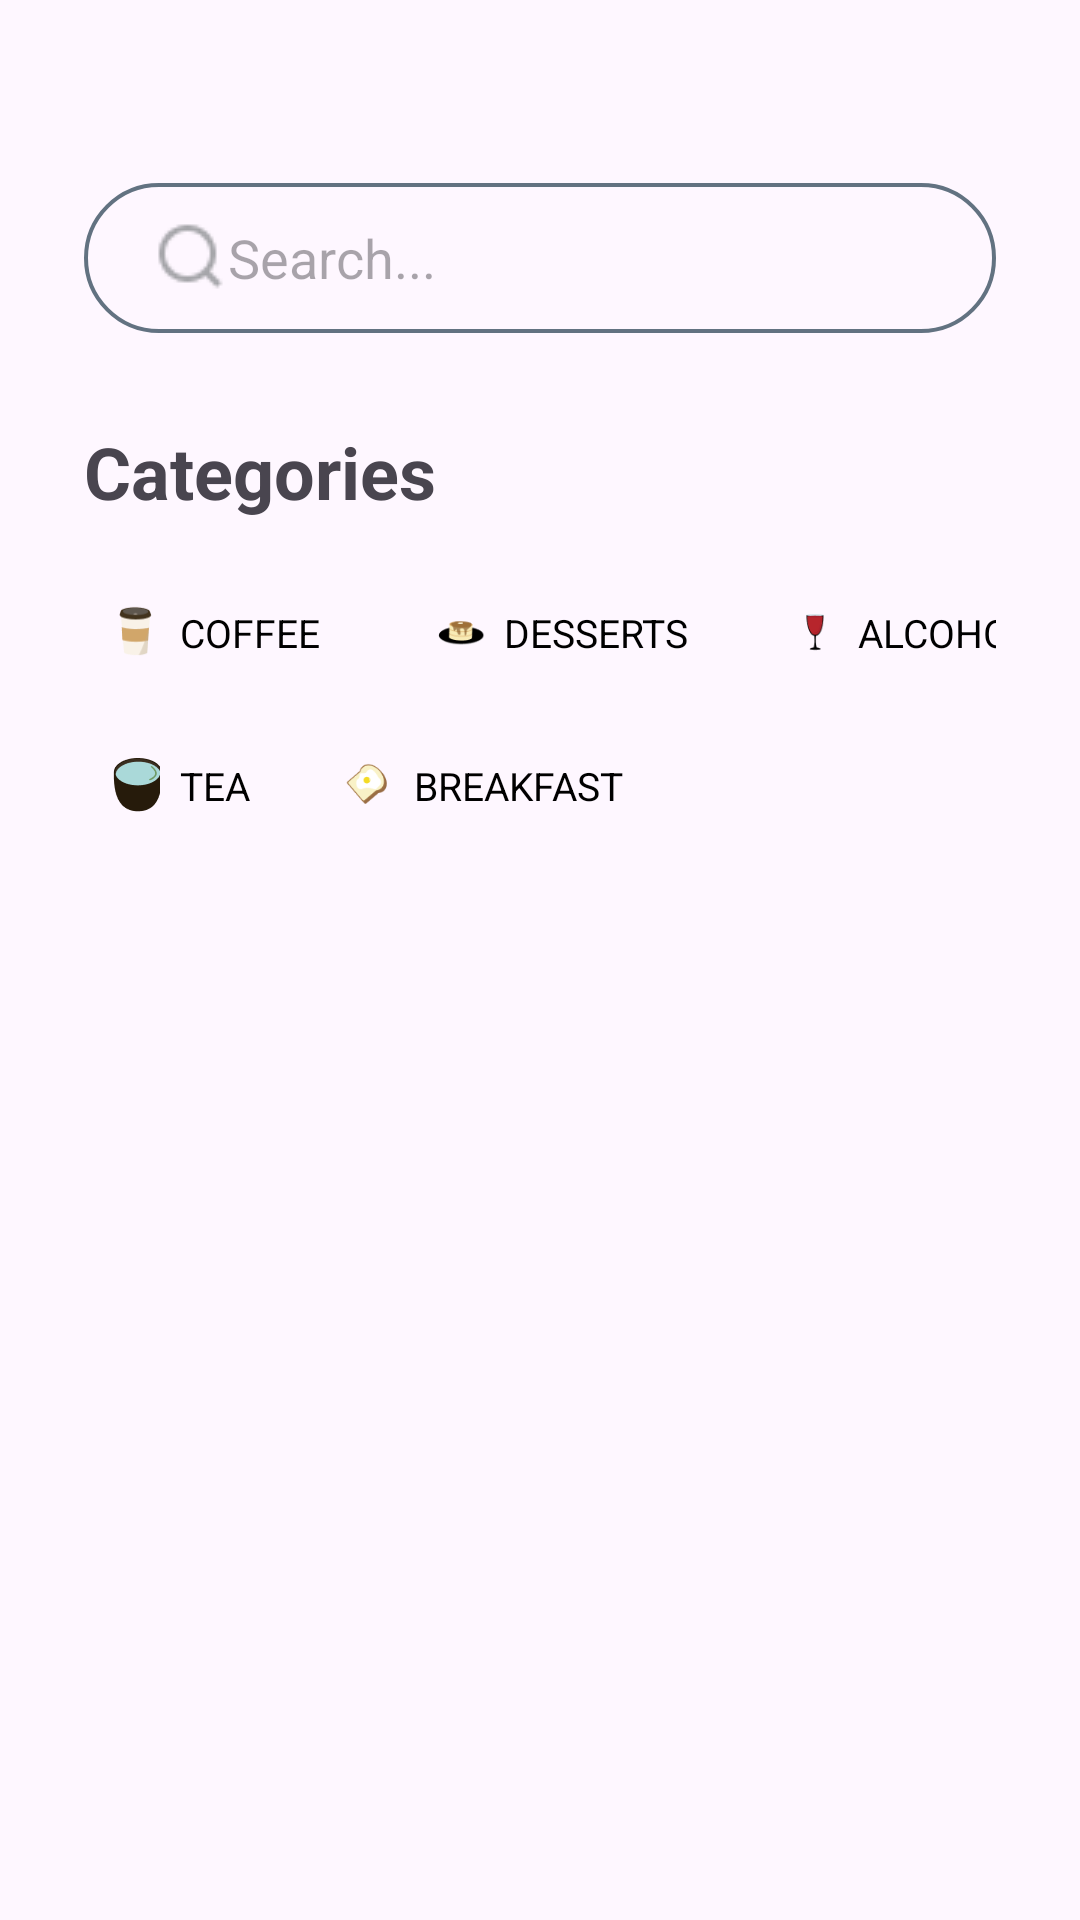

Named icons in this screenshot (1080*1920) and their centers, [x,y]:
bread: [366,784]
wine: [815,632]
